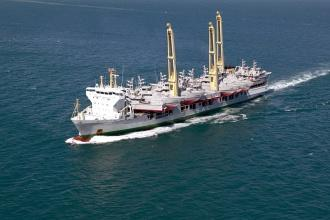Cargoship: (69, 10, 270, 136)
